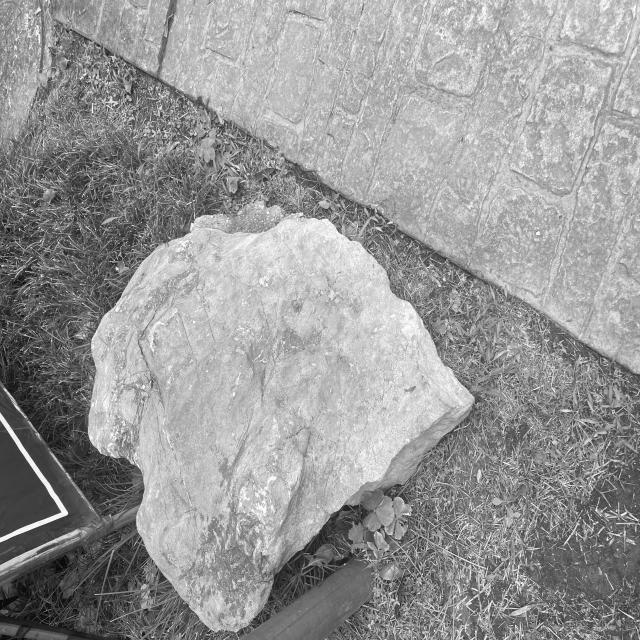Stone: (89, 220, 472, 629)
